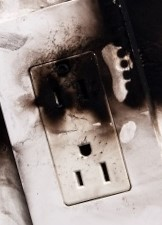outlet: (65, 138, 115, 189)
